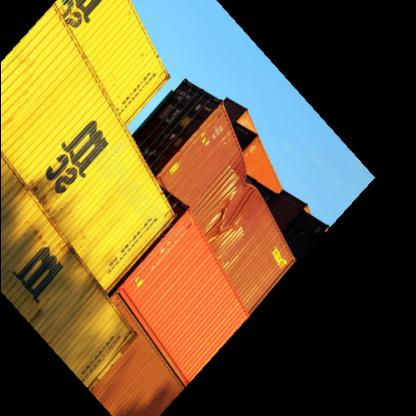Damage: (218, 170, 258, 235)
